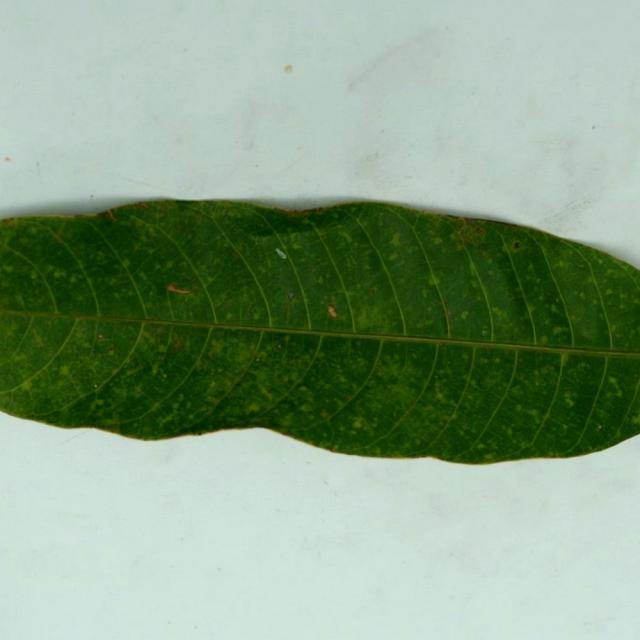Mango: (0, 200, 639, 463)
Powdery_Mildew: (162, 325, 194, 357), (282, 291, 298, 327), (160, 257, 185, 278), (426, 274, 448, 291), (606, 375, 623, 396), (49, 230, 68, 245), (557, 350, 571, 370), (12, 293, 26, 309), (247, 349, 263, 363), (338, 231, 354, 244), (416, 317, 433, 329), (154, 325, 167, 339), (247, 402, 262, 413), (434, 391, 447, 403), (552, 326, 567, 336), (53, 269, 67, 279), (390, 233, 401, 245), (221, 297, 233, 308), (528, 409, 541, 419), (300, 403, 313, 413), (298, 385, 311, 395), (59, 365, 70, 376), (352, 419, 364, 429), (210, 339, 220, 351), (232, 247, 244, 257), (565, 397, 575, 408), (150, 365, 160, 376), (291, 241, 302, 251), (550, 304, 560, 314), (388, 252, 399, 261), (252, 310, 261, 321), (225, 311, 234, 322), (286, 291, 295, 302), (2, 217, 16, 224), (121, 259, 131, 268), (421, 288, 430, 298), (3, 265, 13, 274), (321, 410, 331, 419), (34, 338, 44, 347), (475, 225, 485, 234), (305, 265, 316, 273), (460, 310, 469, 319), (30, 271, 39, 280), (69, 274, 78, 283), (432, 237, 442, 245), (319, 431, 329, 439), (539, 336, 548, 344), (471, 281, 480, 289), (134, 386, 143, 394), (561, 423, 569, 432), (446, 310, 454, 319), (193, 214, 202, 222), (476, 443, 486, 450), (635, 325, 640, 339), (513, 241, 521, 249), (604, 288, 613, 295), (491, 307, 500, 314), (317, 275, 324, 284), (95, 399, 104, 406), (455, 244, 464, 251), (97, 334, 107, 340), (579, 292, 586, 300), (515, 404, 523, 411), (108, 344, 114, 352), (482, 330, 488, 336), (440, 341, 446, 346)
